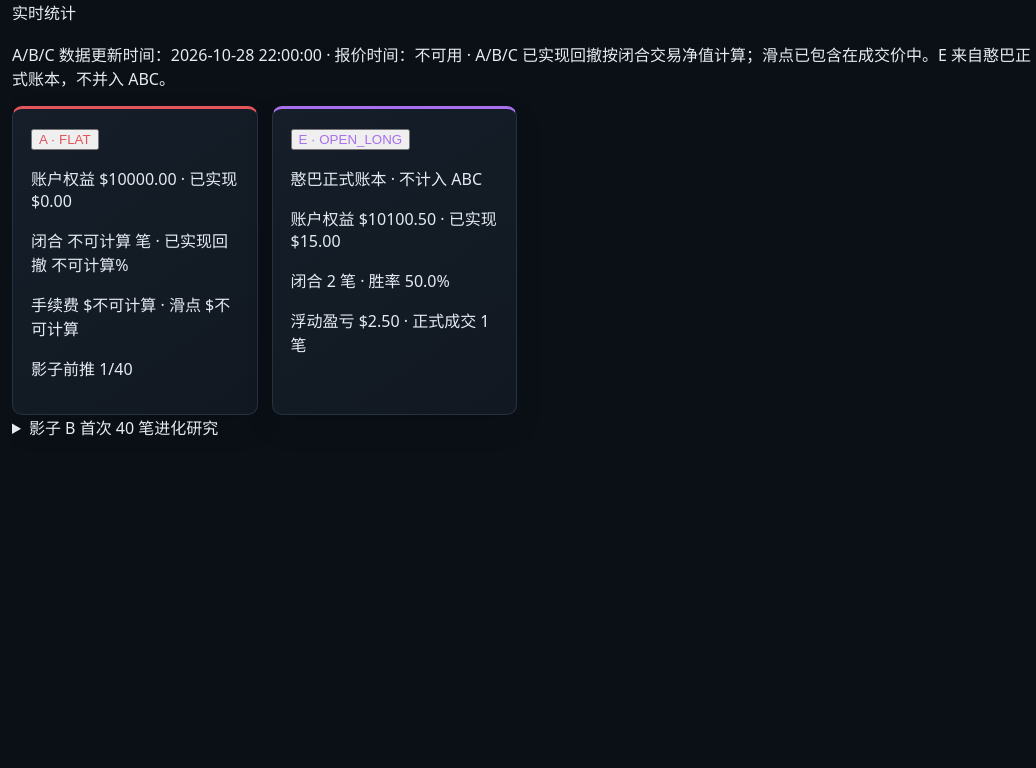
Test: shows a formal E card beside ABC and leaves the shadow book out of it
The image size is (1036, 768).
Expected: the element named "憨巴正式账本统计" shows "憨巴正式账本 · 不计入 ABC", [290,168,482,190]
Expected: the element named "憨巴正式账本统计" shows "$10100.50", [359,208,436,230]
Click the button with aria-label "E 统计详情" at (350, 140), box [290,129,410,150]
(page scrolled)
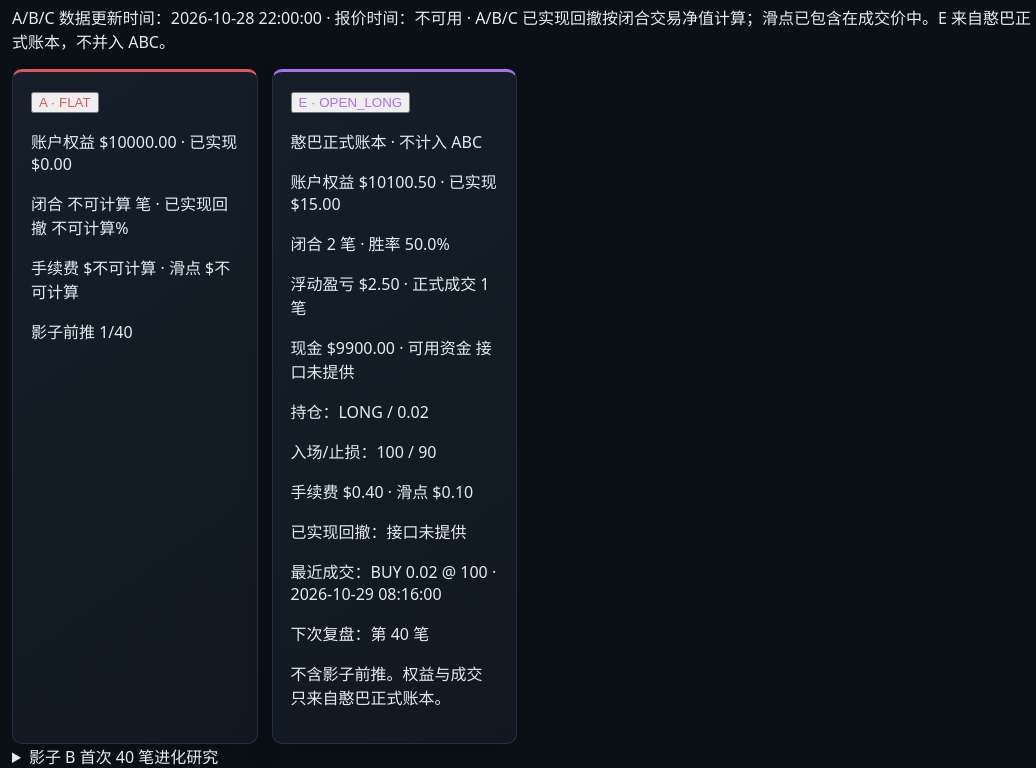
Expected: the element named "憨巴正式账本统计" shows "LONG / 0.02", [338,401,429,423]
Expected: the element named "憨巴正式账本统计" shows "100 / 90", [376,441,436,463]
Expected: the element named "憨巴正式账本统计" shows "$0.40", [343,481,384,503]
